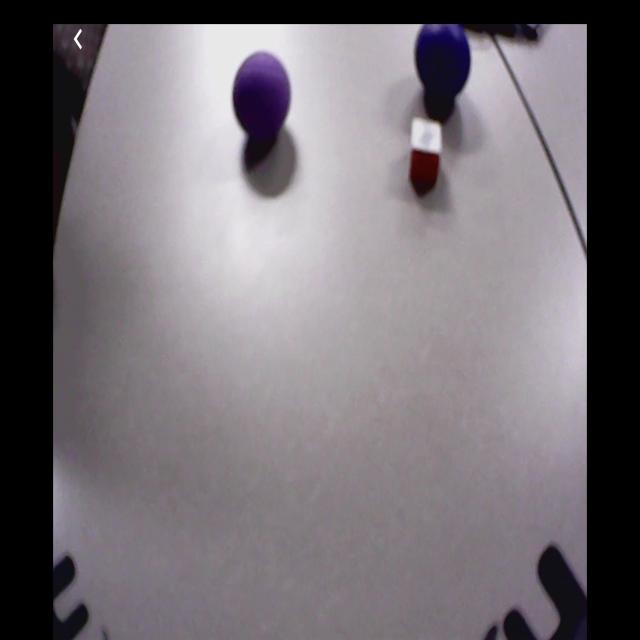ball: (233, 54, 292, 142), (415, 25, 471, 106)
